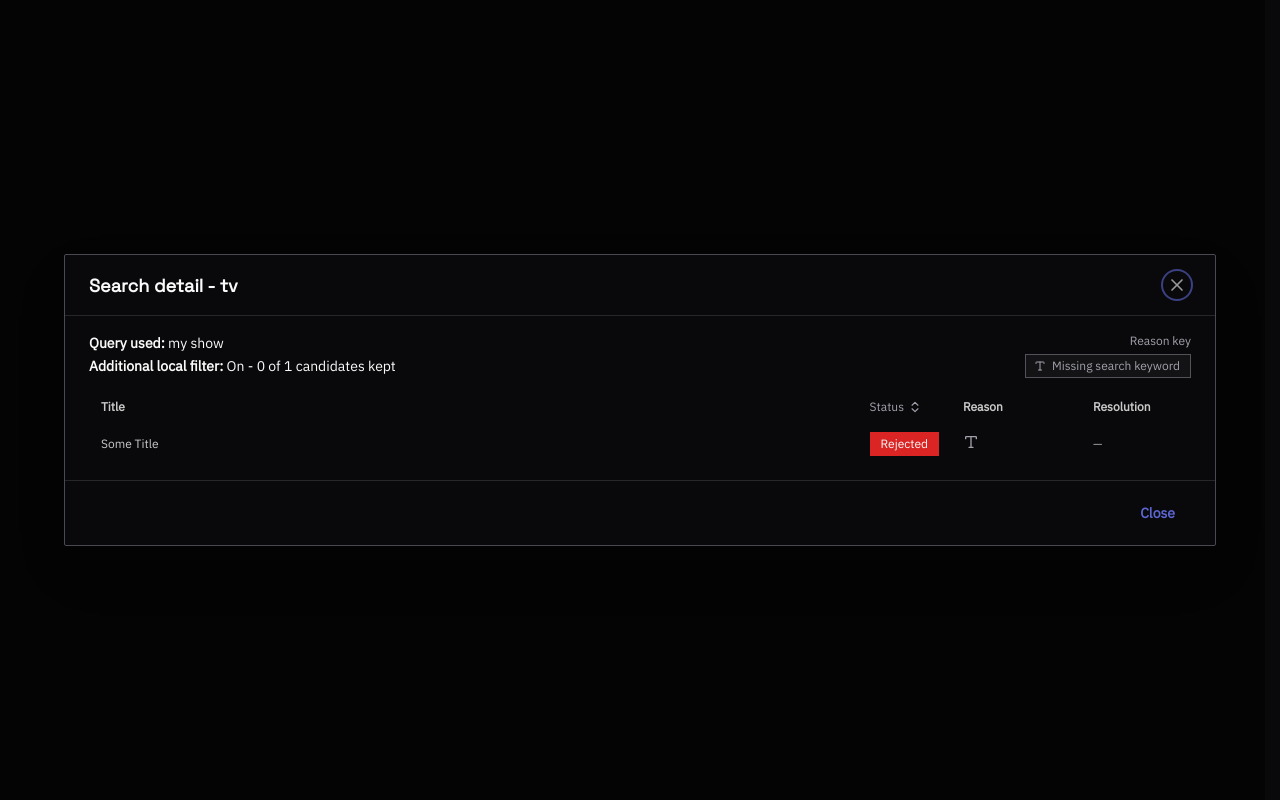
NzbSearchTraceDialog › reason tooltips › spells out the keyword reason
Hover over the text "—" at (1098, 444), box [1093,436,1102,451]
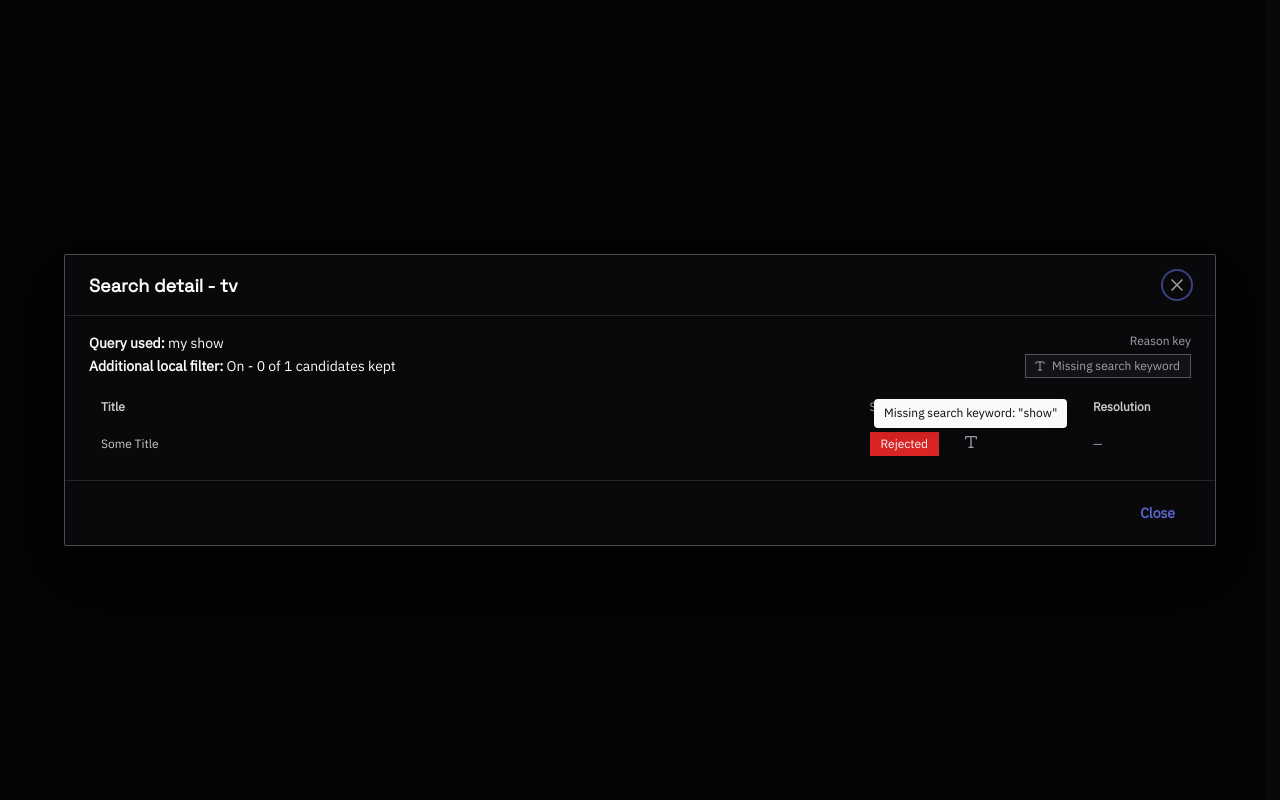
Expected: the tooltip "Missing search keyword: \"show\"" is shown, [874,399,1067,428]
